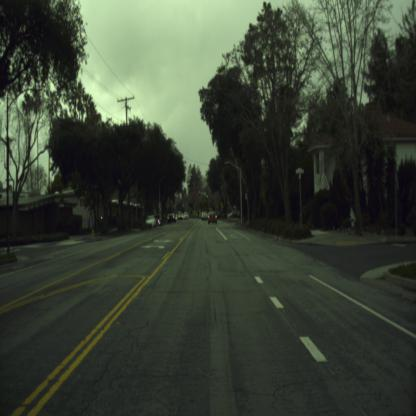Green: (206, 192, 208, 196), (216, 203, 217, 207), (182, 202, 183, 206), (188, 208, 189, 212)
Red: (198, 191, 200, 196)
